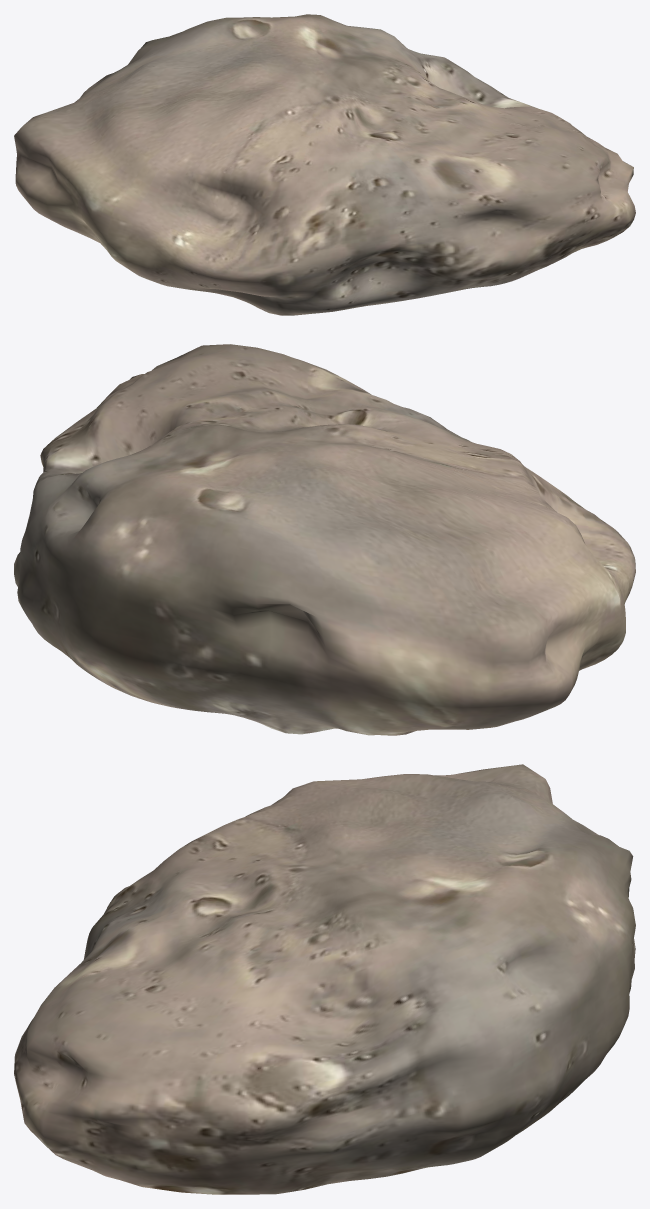
File: amalthea.glb
The picture shows the model from 3 angles, top to bottom: view 1: azimuth 30°, elevation 25°; view 2: azimuth 150°, elevation 25°; view 3: azimuth 270°, elevation 25°; orthographic projection. The views are drawn at different scales.
Parts seen in each view (by area): view 1: amalthea; view 2: amalthea; view 3: amalthea.
Part boxes in pixels (x1,y1,x2,y2): amalthea: [14, 14, 635, 315]; amalthea: [14, 344, 635, 735]; amalthea: [14, 764, 635, 1194].
Size of the model in its own units: 0.3957 by 0.1637 by 0.3364.
1 material, 1 textured.
